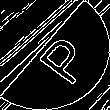P_NW: (21, 25, 89, 85)
